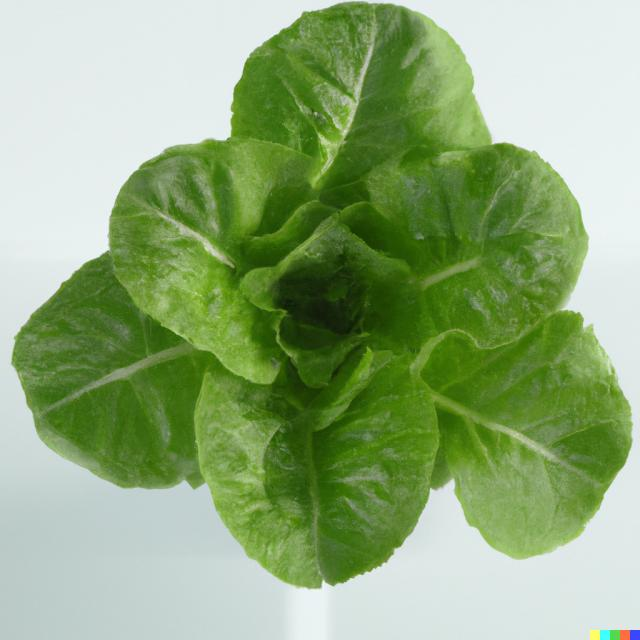FN: (7, 0, 640, 601)
